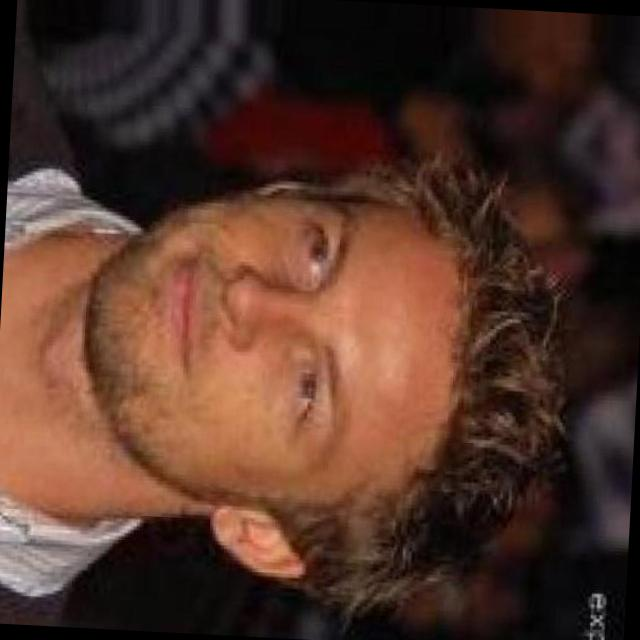bareface: (67, 165, 534, 550)
